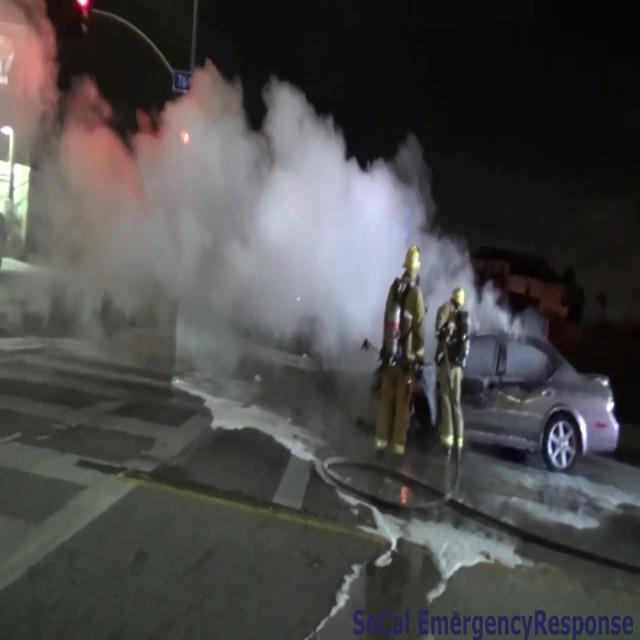Smoke: (1, 65, 428, 389)
